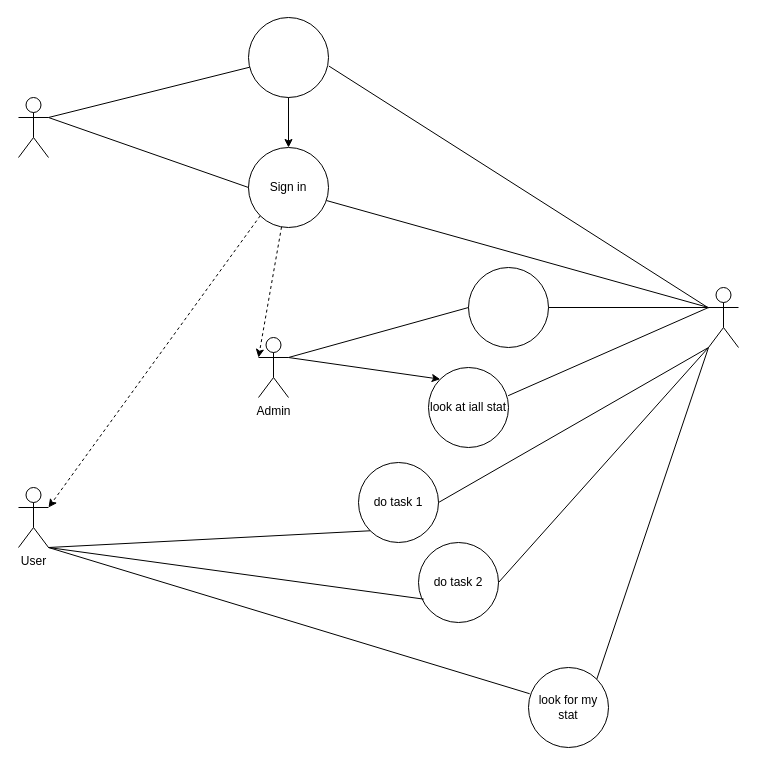
This 758x765 diagram has some shape labels left out. The shapes that lost their labels are listed below. From the top down, each one's centre as x and y in pixels, then its label:
pixel 288 57: Sign up
pixel 33 127: Quest
pixel 508 307: update DB
pixel 723 317: Server
